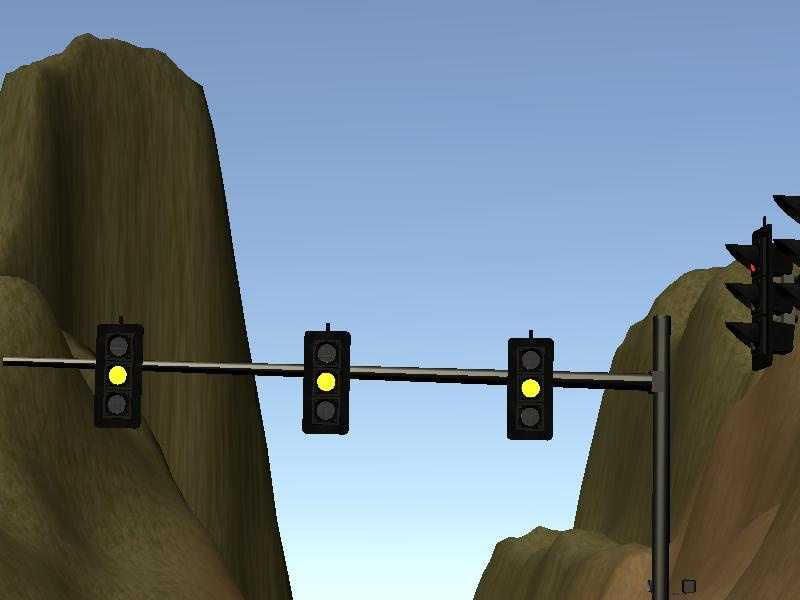YELLOW: (297, 326, 353, 438), (91, 319, 147, 431), (503, 331, 558, 443)
